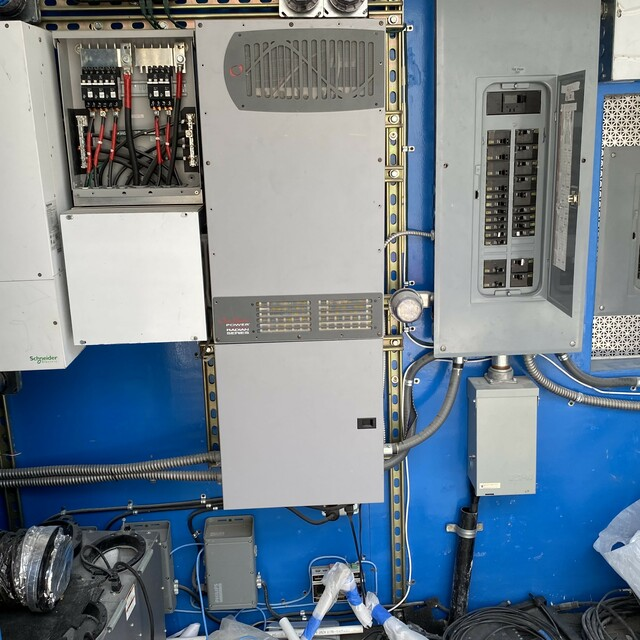inverter: (187, 7, 397, 514)
